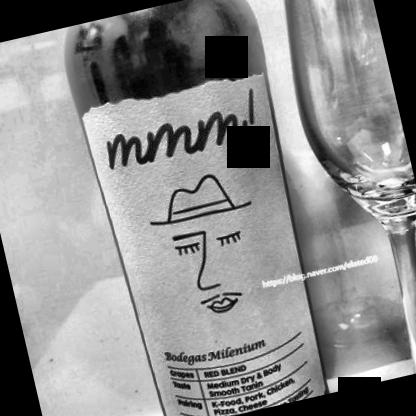umm: (94, 82, 331, 415)
